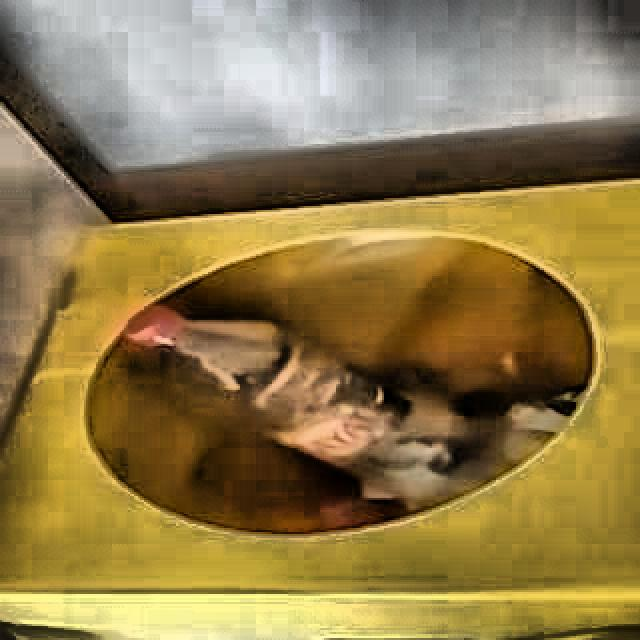plastic: (123, 308, 469, 509)
